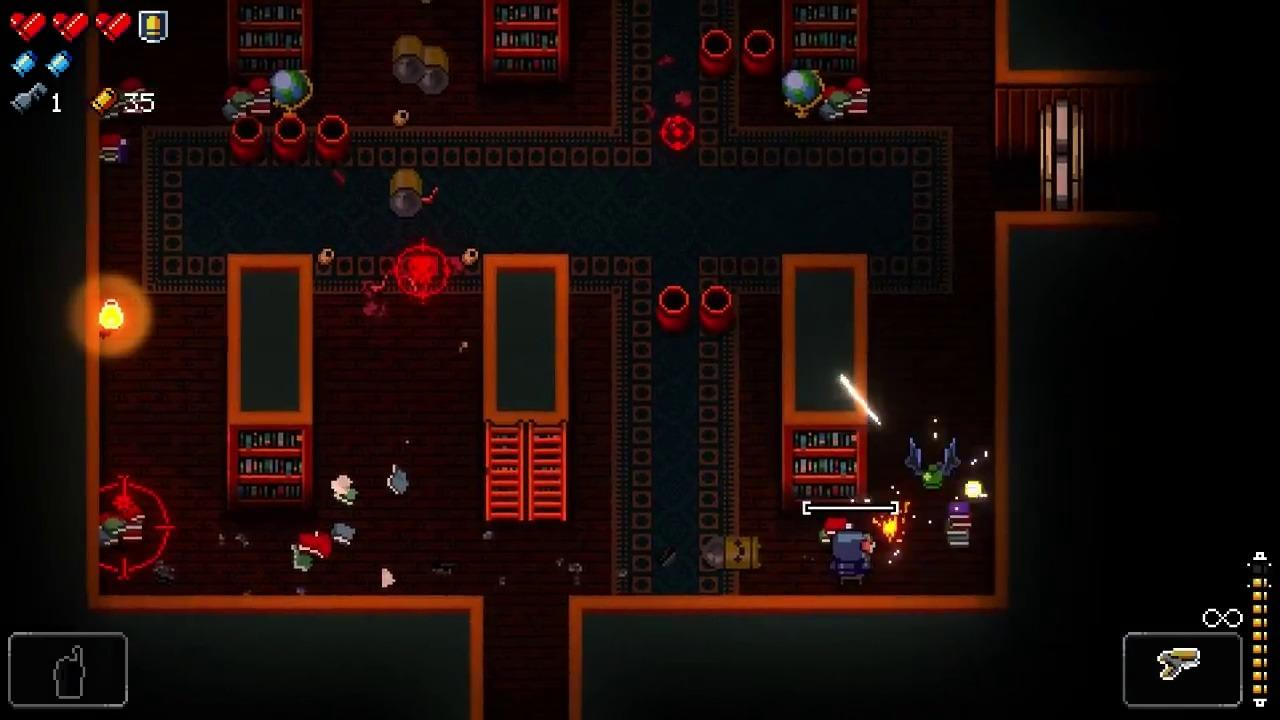dead_bullet_kin: (705, 537, 761, 570), (392, 35, 426, 84), (389, 169, 423, 217), (416, 45, 448, 93)
enemy_spawn: (97, 474, 177, 581), (387, 239, 450, 301), (658, 116, 695, 151)
grenat: (906, 438, 960, 490)
locked_door: (1038, 94, 1086, 214)
player: (831, 533, 875, 585)
